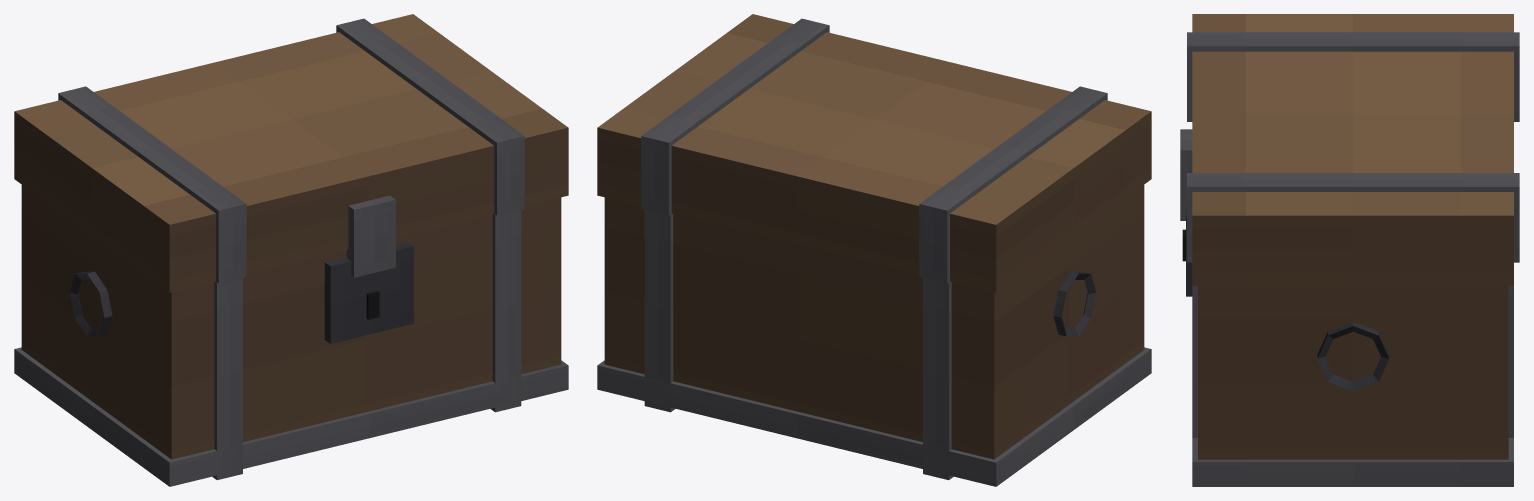
The model's file is strongbox.glb.
3 renders of one model, left to right at view 1: azimuth 30°, elevation 25°; view 2: azimuth 150°, elevation 25°; view 3: azimuth 270°, elevation 25°, orthographic. The views are drawn at different scales.
Visible parts, largest first — view 1: strongbox.001, lid; view 2: strongbox.001, lid; view 3: lid, strongbox.001.
Boxes of the visible parts, bbox=[...] form: strongbox.001: bbox=[14, 185, 568, 486]; lid: bbox=[14, 14, 568, 292]; strongbox.001: bbox=[597, 185, 1151, 486]; lid: bbox=[597, 14, 1151, 292]; lid: bbox=[1180, 14, 1519, 285]; strongbox.001: bbox=[1182, 205, 1513, 486].
Size of the model in its own units: 0.4407 by 0.28 by 0.306.
1 material, 1 textured.
